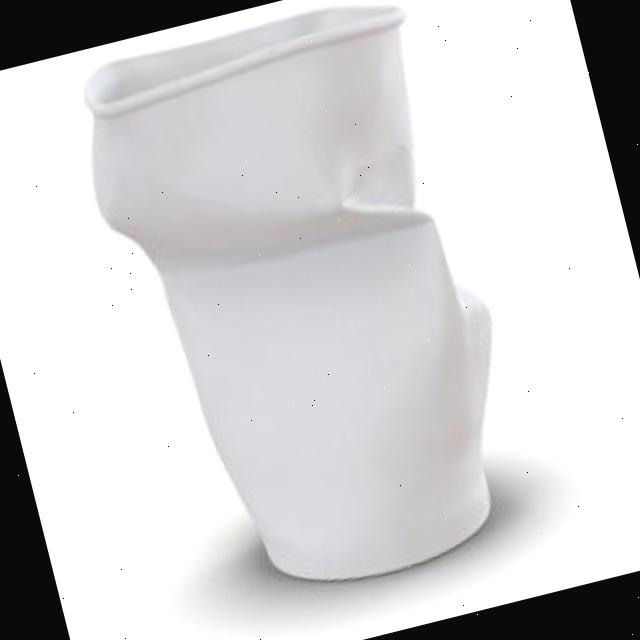trash: (63, 0, 553, 619)
